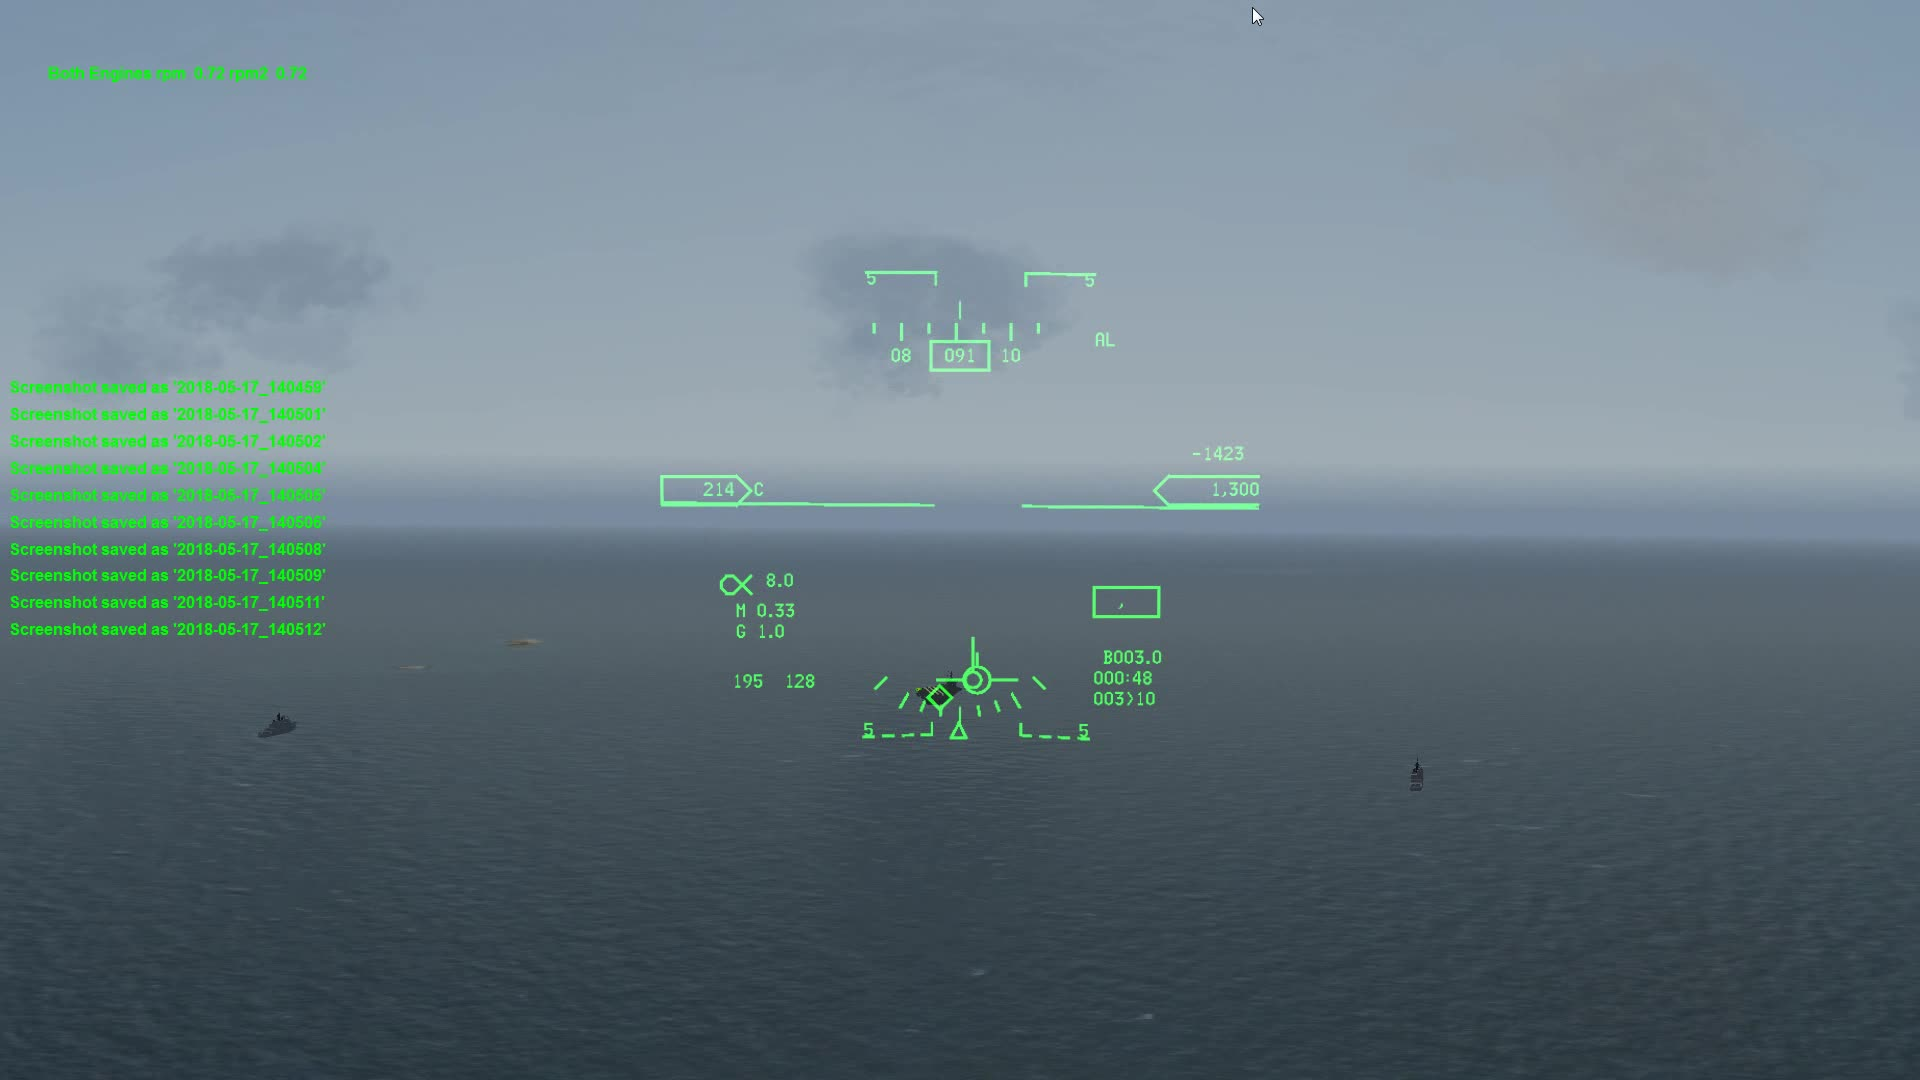speed vector: (935, 640, 1025, 702)
